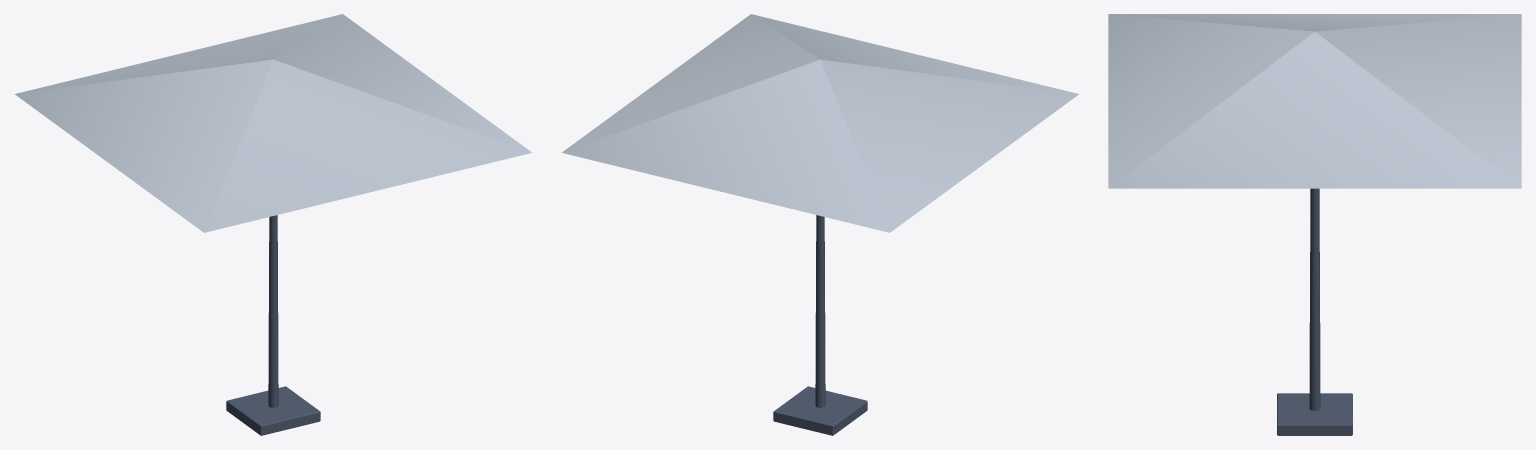
File: 方形遮阳伞-lite.glb
3 renders of one model, left to right at view 1: azimuth 30°, elevation 25°; view 2: azimuth 150°, elevation 25°; view 3: azimuth 270°, elevation 25°, orthographic. The views are drawn at different scales.
Parts seen in each view (by area): view 1: garden-umbrella-square; view 2: garden-umbrella-square; view 3: garden-umbrella-square.
Part boxes in pixels (x1,y1,x2,y2): garden-umbrella-square: [15, 14, 531, 435]; garden-umbrella-square: [562, 14, 1078, 435]; garden-umbrella-square: [1108, 14, 1521, 435].
Bounding box in the file's own units: 2.6 × 2.7 × 2.6.
